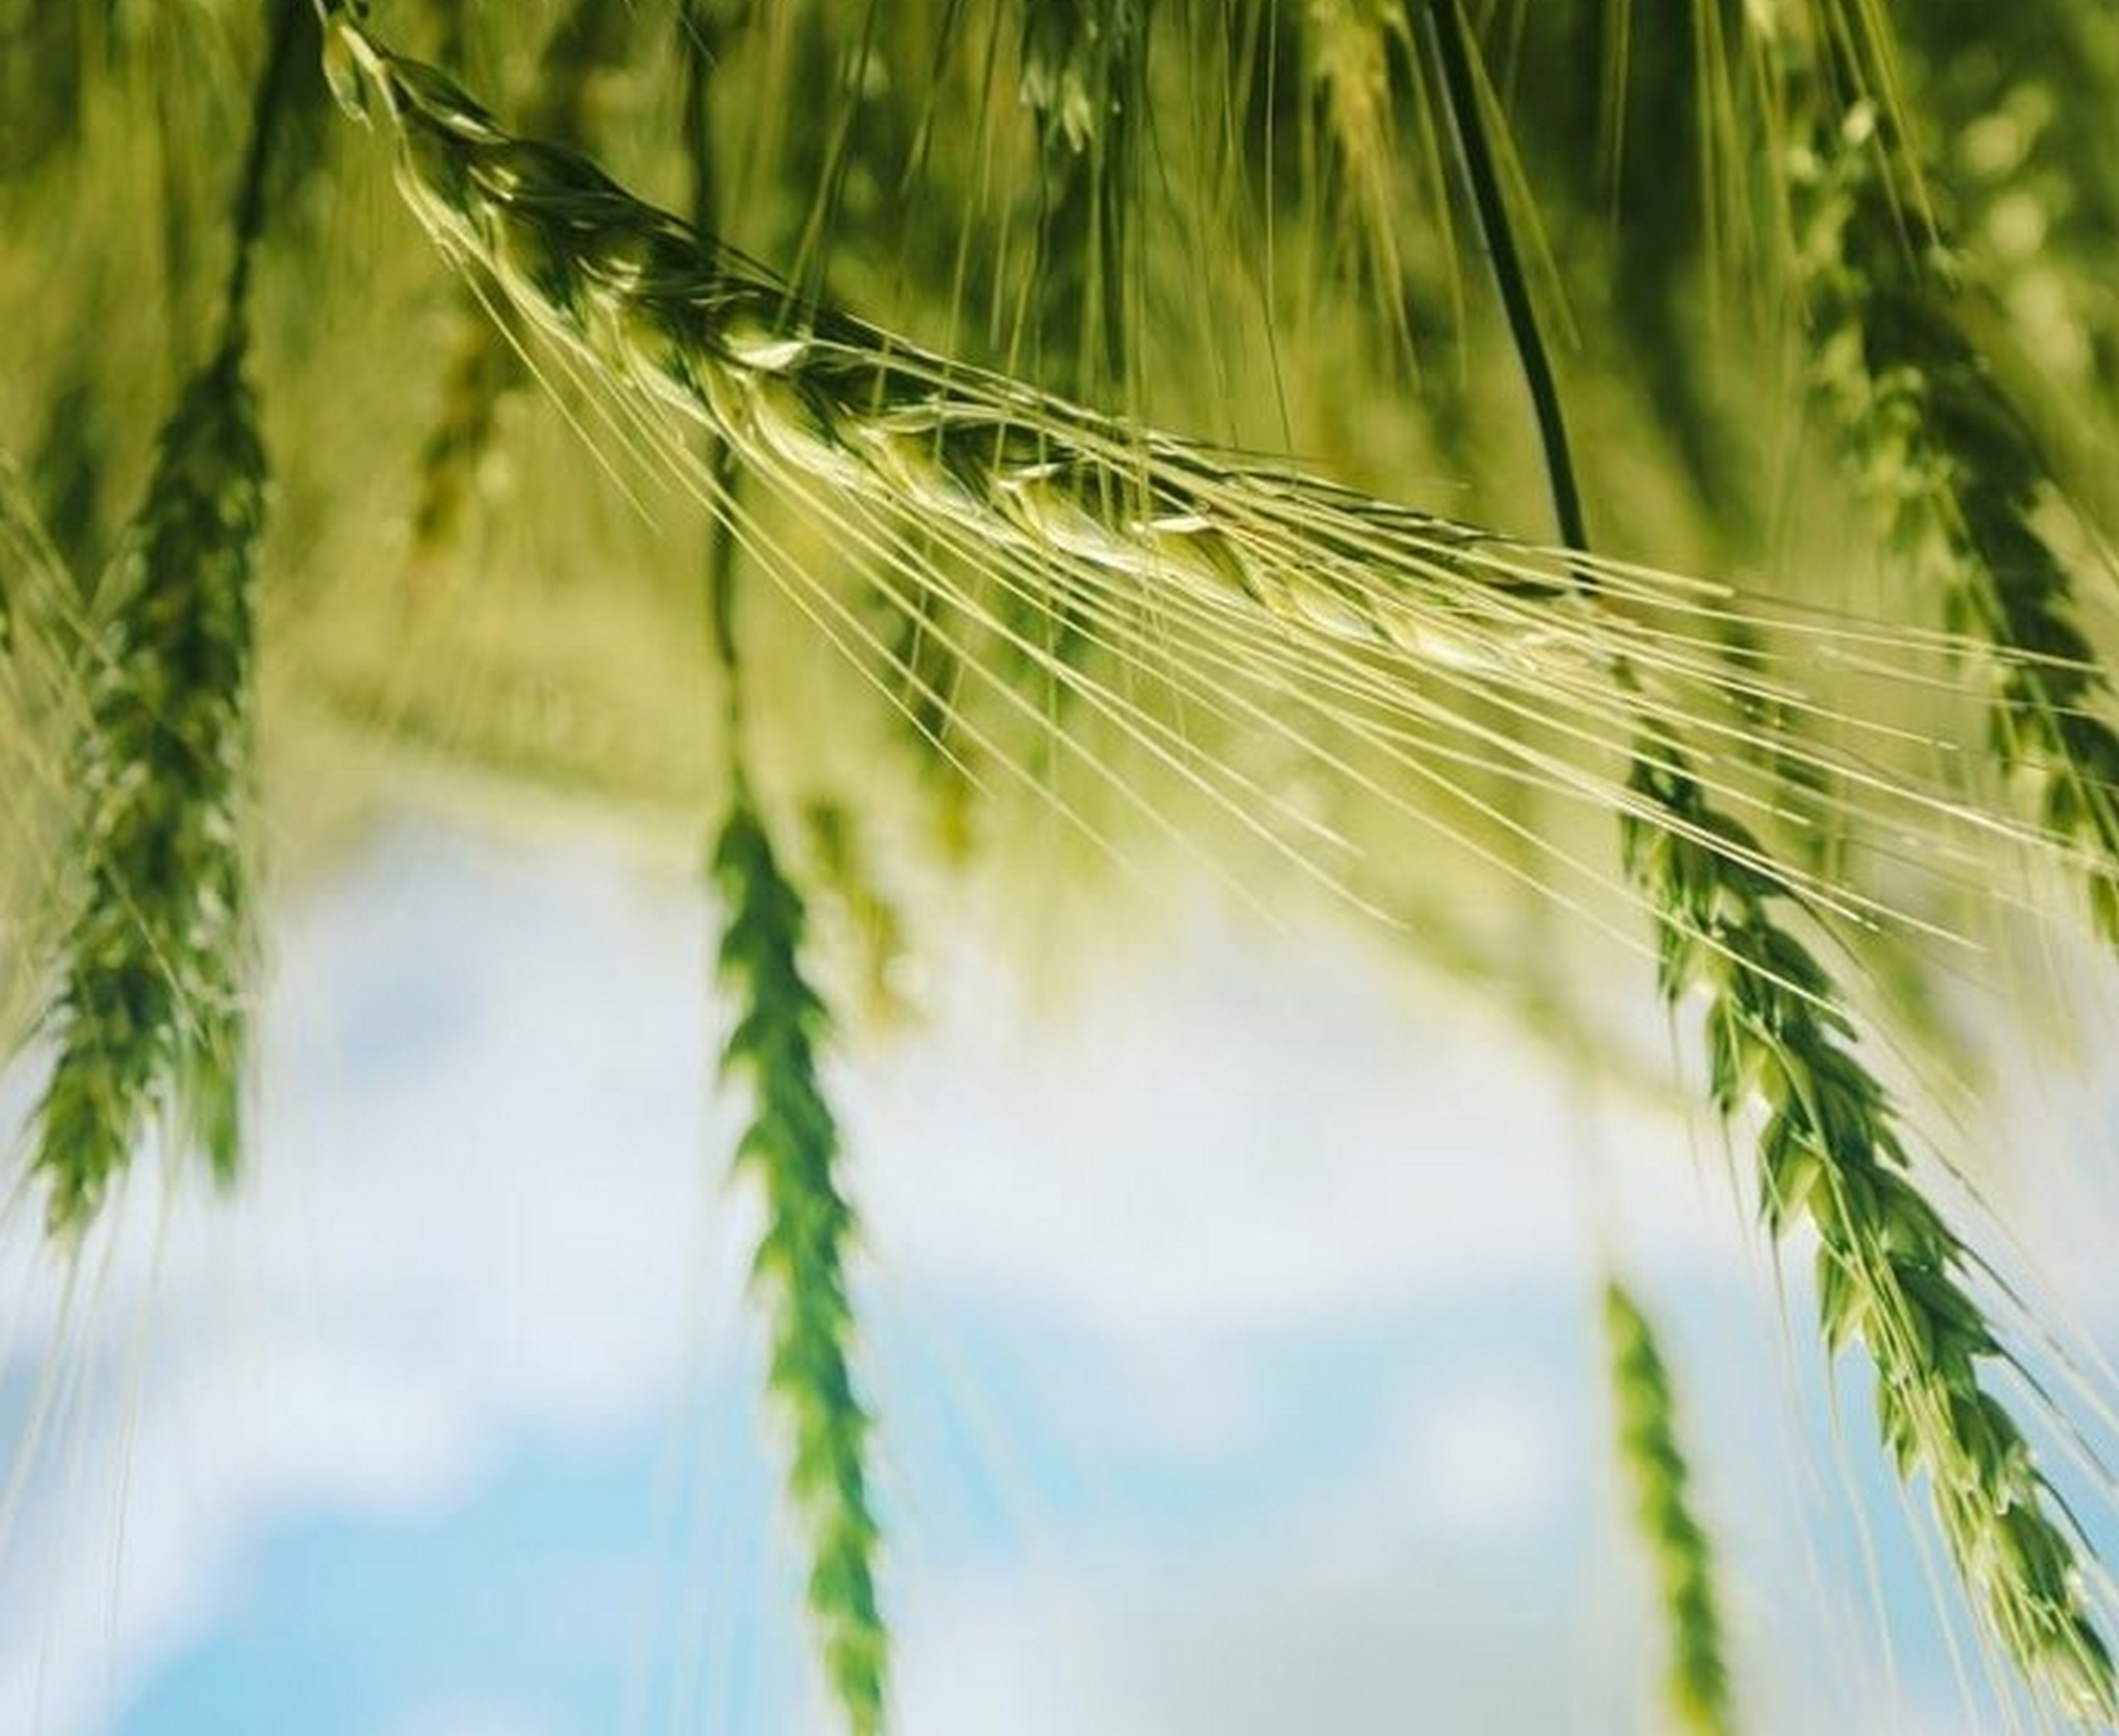Healthy Wheat: (1596, 782, 2119, 1637)
